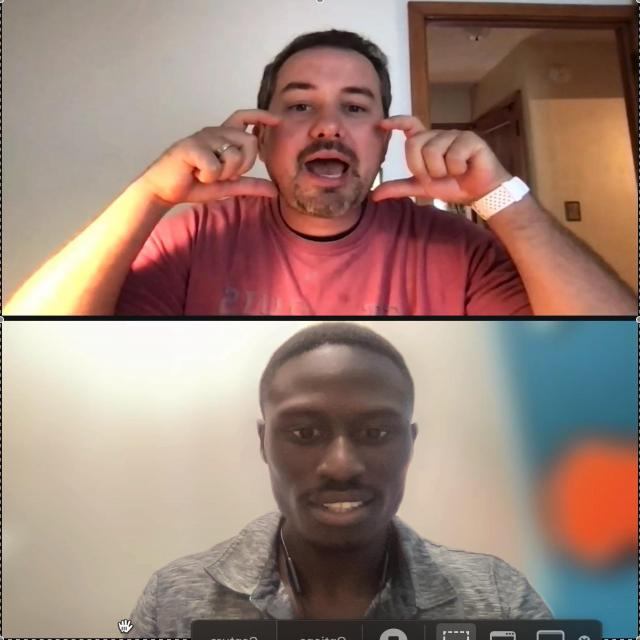face: (255, 338, 419, 554), (255, 44, 390, 218)
